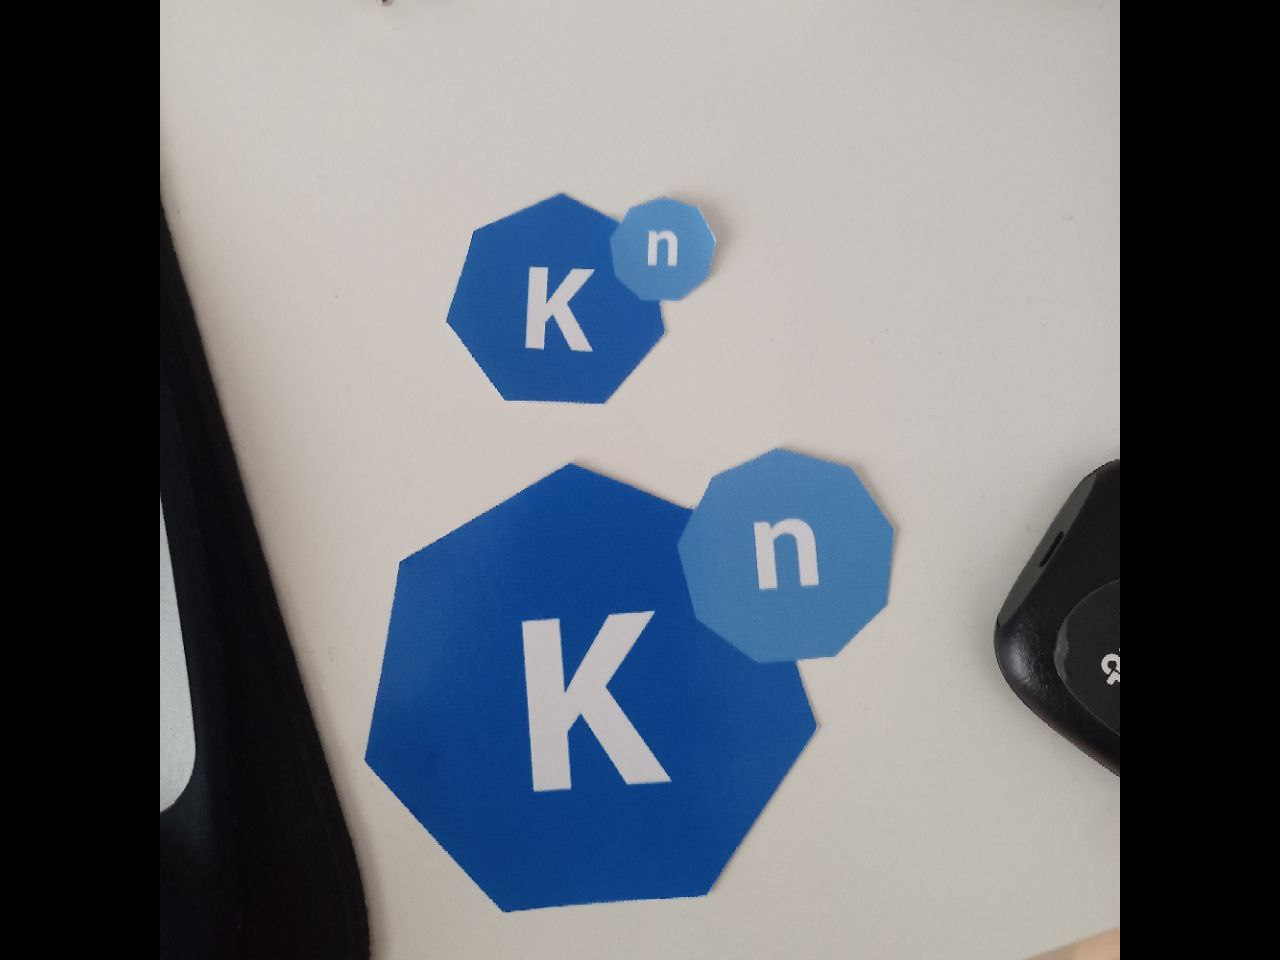knative: (606, 224, 1074, 764), (442, 188, 720, 406)
